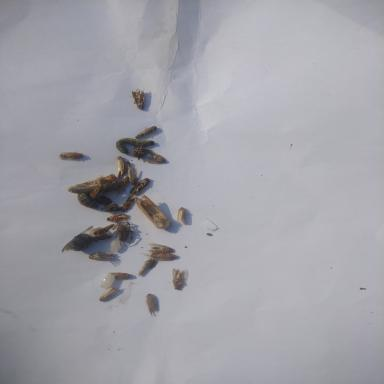pbw: (132, 122, 158, 138), (143, 292, 160, 316), (128, 179, 153, 195), (109, 176, 130, 195), (130, 89, 148, 110), (146, 241, 176, 253), (95, 287, 119, 302), (170, 267, 184, 289), (145, 252, 179, 261), (57, 149, 82, 161), (136, 259, 153, 276), (115, 161, 130, 178), (120, 196, 135, 212), (127, 166, 140, 184), (176, 206, 190, 222), (88, 252, 114, 260), (114, 155, 126, 171), (108, 271, 132, 279), (106, 214, 128, 222)
